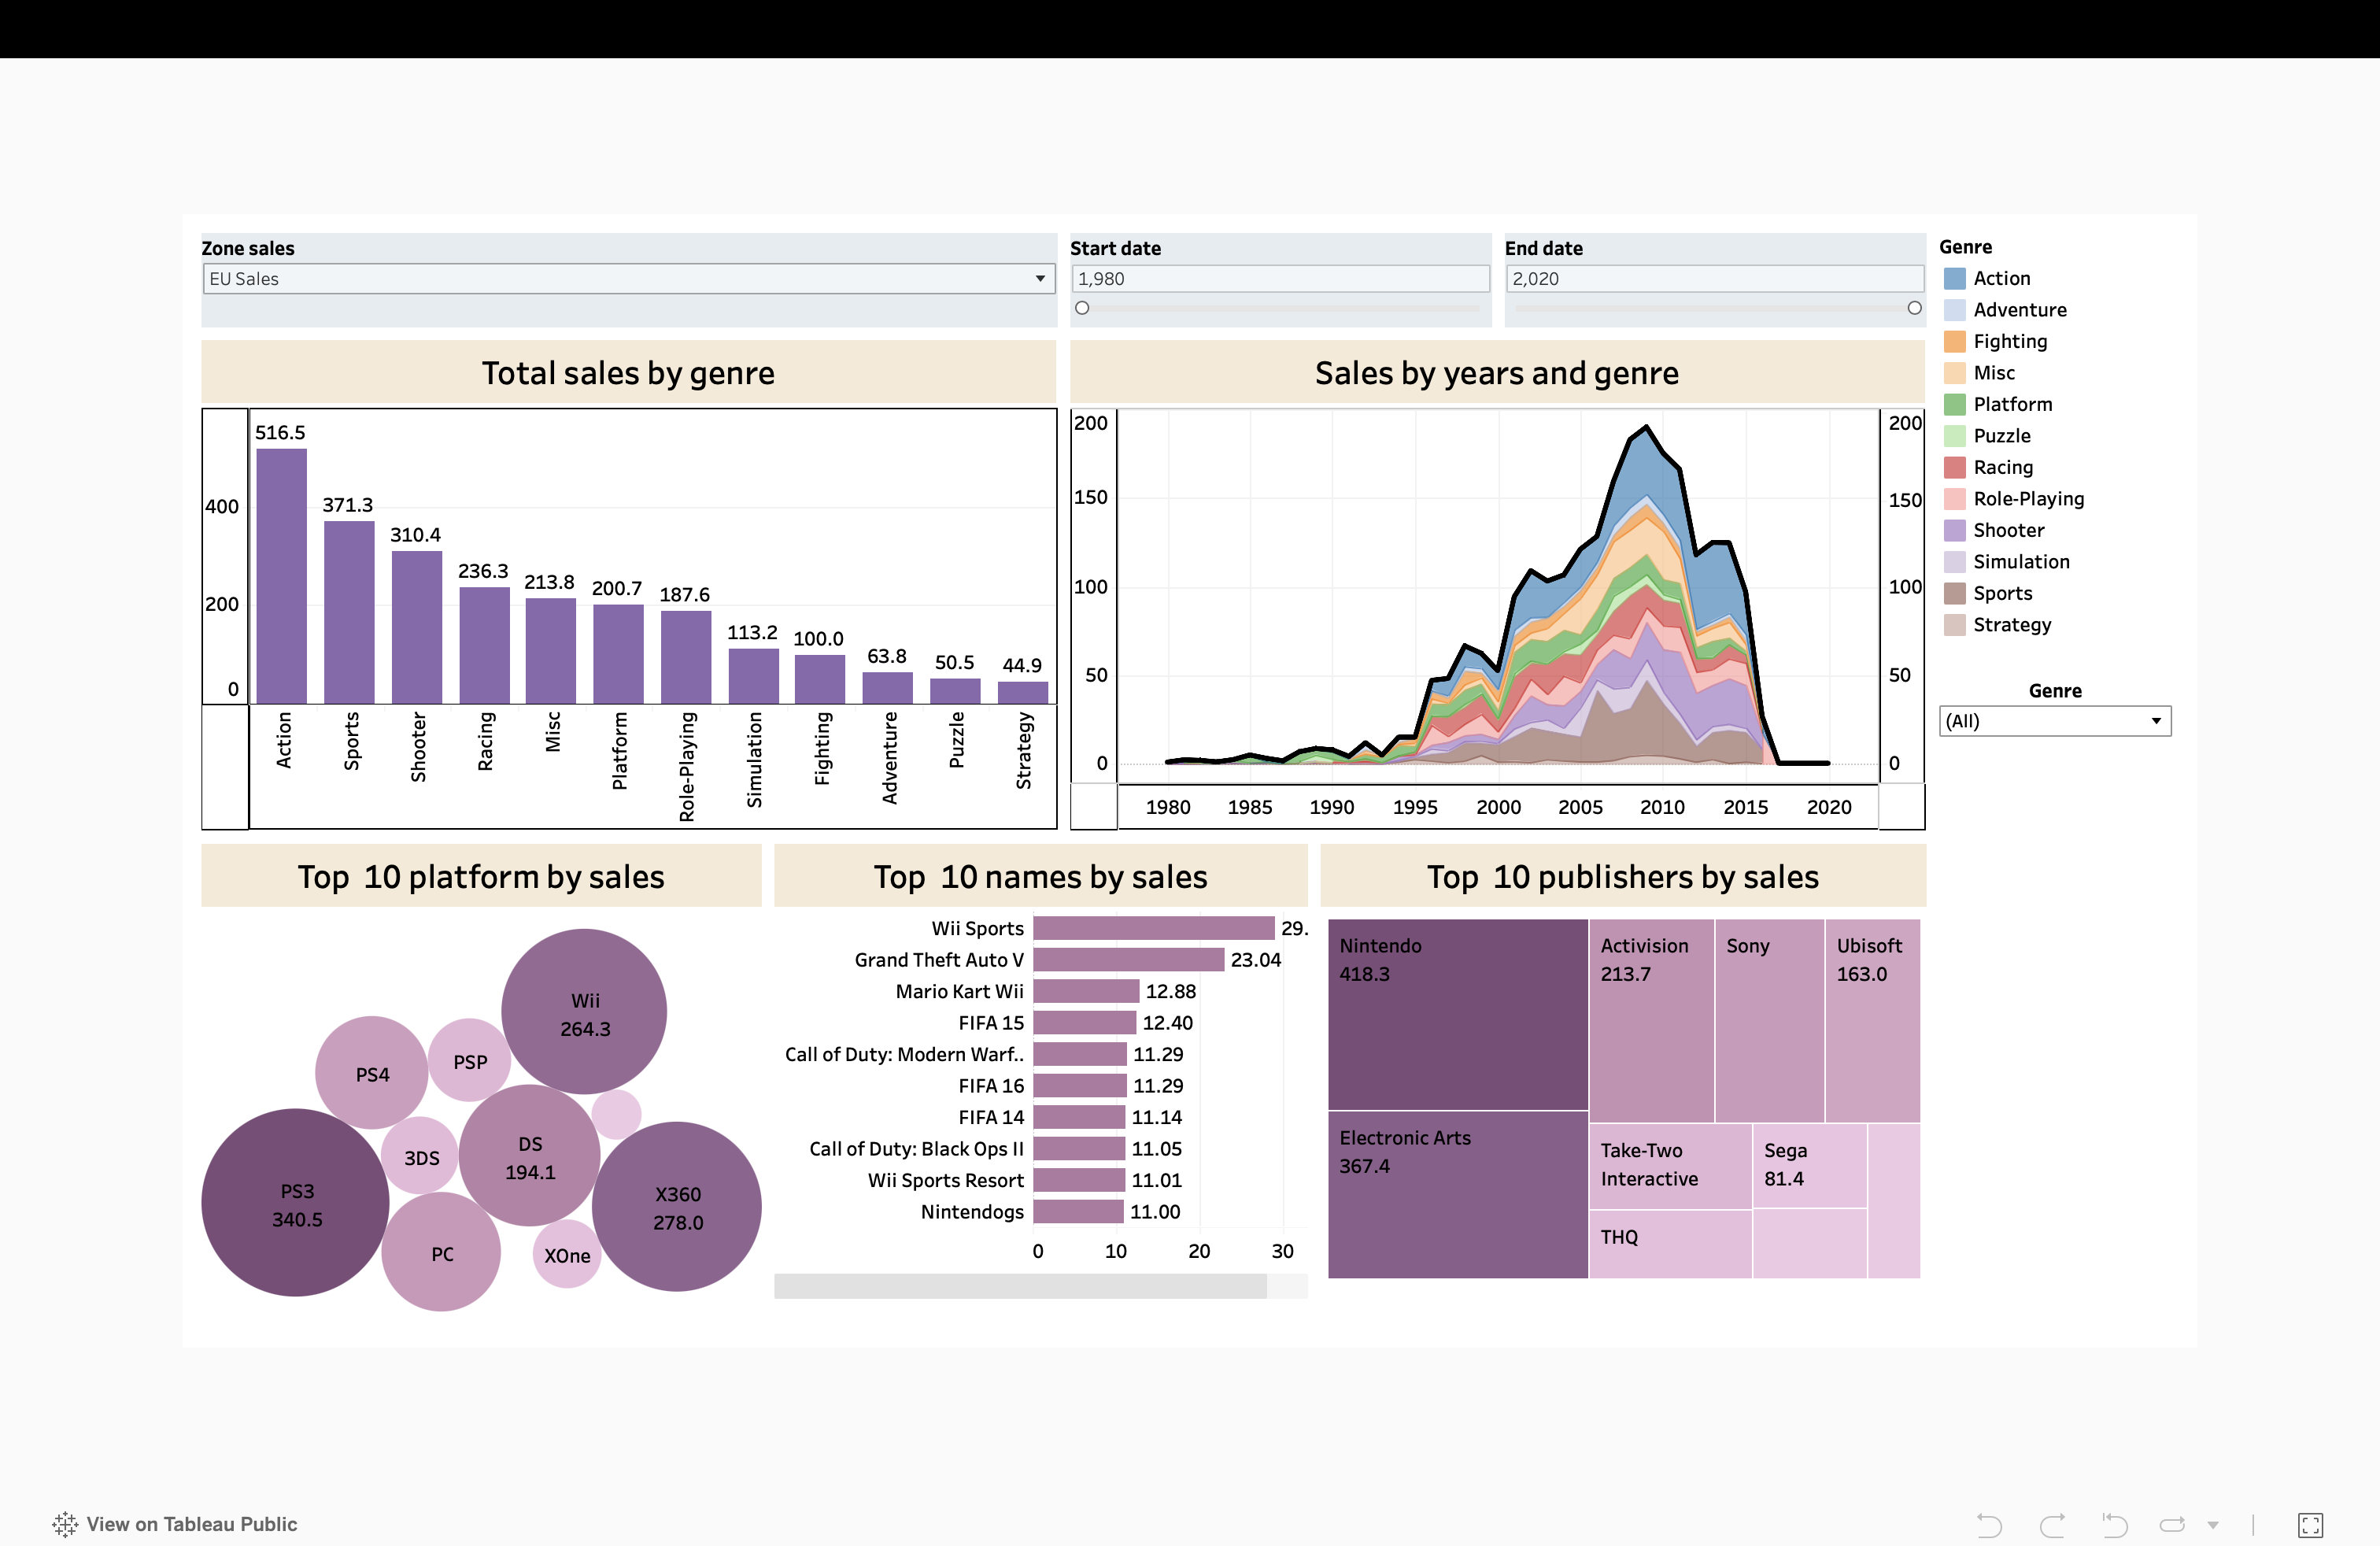

The dashboard page shown, as its layout file describes it:
{"tool":"tableau","page":{"name":"Games","canvas":[1280,720],"ordinal":0},"visuals":[{"type":"parameter","param":"[Parameters].[Parameter 1]","box":[8,8,552,68.2]},{"type":"parameter","param":"[Parameters].[Parameter 2]","box":[560,8,276,68.2]},{"type":"parameter","param":"[Parameters].[Parameter 3]","box":[836,8,276,68.2]},{"type":"legend","title":"Sales by years and genre","param":"[federated.1osk0di14dg4a61d6z09c0lzs46y].[none:Genre:nk]","box":[1112,8,160,266]},{"type":"worksheet","title":"Total sales by genre","mark":"Automatic","rows":["Calculation_547468859402649601"],"cols":["Genre"],"box":[8,76.2,552,319.7]},{"type":"worksheet","title":"Sales by years and genre","mark":"Automatic","rows":["Calculation_547468859402649601","Calculation_547468859402649601"],"cols":["Year"],"box":[560,76.2,552,319.7]},{"type":"filter","title":"Sales by years and genre","param":"[federated.1osk0di14dg4a61d6z09c0lzs46y].[none:Genre:nk]","box":[1115,293,150,52]},{"type":"worksheet","title":"Top  10 platform by sales","mark":"Circle","box":[8,395.9,364,316.1]},{"type":"worksheet","title":"Top  10 names by sales","mark":"Automatic","rows":["Name"],"cols":["Calculation_547468859402649601"],"box":[372,395.9,347,316.1]},{"type":"worksheet","title":"Top  10 publishers by sales","mark":"Automatic","box":[719,395.9,393,316.1]}]}

Visuals, with their boxes on the page's 1280x720 design canvas (x1, y1, x2, y2). These are canvas units, not pixel positions in the 2380x1546 screenshot, which may show the page scaled, cropped or inside an application window:
parameter: (8, 8, 560, 76)
parameter: (560, 8, 836, 76)
parameter: (836, 8, 1112, 76)
"Sales by years and genre" legend: (1112, 8, 1272, 274)
"Total sales by genre" worksheet: (8, 76, 560, 396)
"Sales by years and genre" worksheet: (560, 76, 1112, 396)
"Sales by years and genre" filter: (1115, 293, 1265, 345)
"Top  10 platform by sales" worksheet (Circle marks): (8, 396, 372, 712)
"Top  10 names by sales" worksheet: (372, 396, 719, 712)
"Top  10 publishers by sales" worksheet: (719, 396, 1112, 712)
